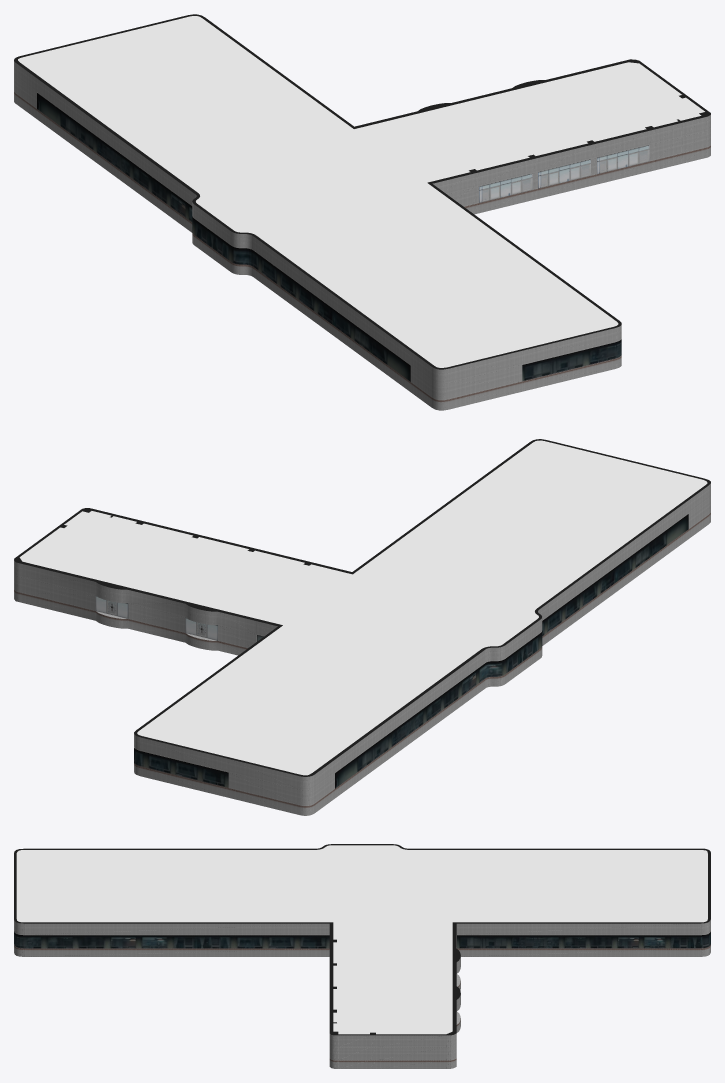
3 views of the same model, one above another, from view 1: azimuth 30°, elevation 25°; view 2: azimuth 150°, elevation 25°; view 3: azimuth 270°, elevation 25° (orthographic). The views are drawn at different scales.
Visible parts, largest first — view 1: M_SUNGSIM0001F06F06_ISCL_0000001, M_SUNGSIM0001F06F06_ISWL_0000002, M_SUNGSIM0001F06F06_ISWD_0000002, M_SUNGSIM0001F06F06_ISWD_0000007, M_SUNGSIM0001F06F06_ISWD_0000008, M_SUNGSIM0001F06F06_ISWD_0000005, M_SUNGSIM0001F06F06_ISWD_0000006; view 2: M_SUNGSIM0001F06F06_ISCL_0000001, M_SUNGSIM0001F06F06_ISWL_0000002, M_SUNGSIM0001F06F06_ISWD_0000002, M_SUNGSIM0001F06F06_ISWD_0000007; view 3: M_SUNGSIM0001F06F06_ISCL_0000001, M_SUNGSIM0001F06F06_ISWL_0000002, M_SUNGSIM0001F06F06_ISWD_0000007.
Boxes of the visible parts, bbox=[...] form: M_SUNGSIM0001F06F06_ISCL_0000001: bbox=[18, 16, 704, 367]; M_SUNGSIM0001F06F06_ISWL_0000002: bbox=[14, 14, 710, 410]; M_SUNGSIM0001F06F06_ISWD_0000002: bbox=[37, 93, 410, 381]; M_SUNGSIM0001F06F06_ISWD_0000007: bbox=[522, 339, 621, 381]; M_SUNGSIM0001F06F06_ISWD_0000008: bbox=[479, 174, 532, 202]; M_SUNGSIM0001F06F06_ISWD_0000005: bbox=[538, 159, 590, 188]; M_SUNGSIM0001F06F06_ISWD_0000006: bbox=[597, 145, 649, 174]; M_SUNGSIM0001F06F06_ISCL_0000001: bbox=[19, 440, 707, 775]; M_SUNGSIM0001F06F06_ISWL_0000002: bbox=[14, 439, 710, 815]; M_SUNGSIM0001F06F06_ISWD_0000002: bbox=[335, 514, 688, 788]; M_SUNGSIM0001F06F06_ISWD_0000007: bbox=[134, 747, 228, 787]; M_SUNGSIM0001F06F06_ISCL_0000001: bbox=[16, 845, 707, 1034]; M_SUNGSIM0001F06F06_ISWL_0000002: bbox=[14, 844, 710, 1068]; M_SUNGSIM0001F06F06_ISWD_0000007: bbox=[14, 931, 710, 948].
Bounding box in the file's own units: 49.14 × 4 × 75.64.
7 materials, 7 textured.
